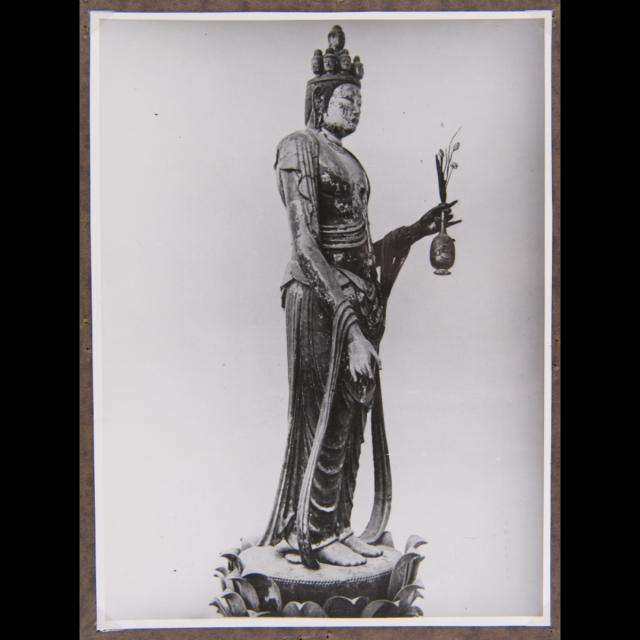buddha-standing: (224, 27, 480, 613)
